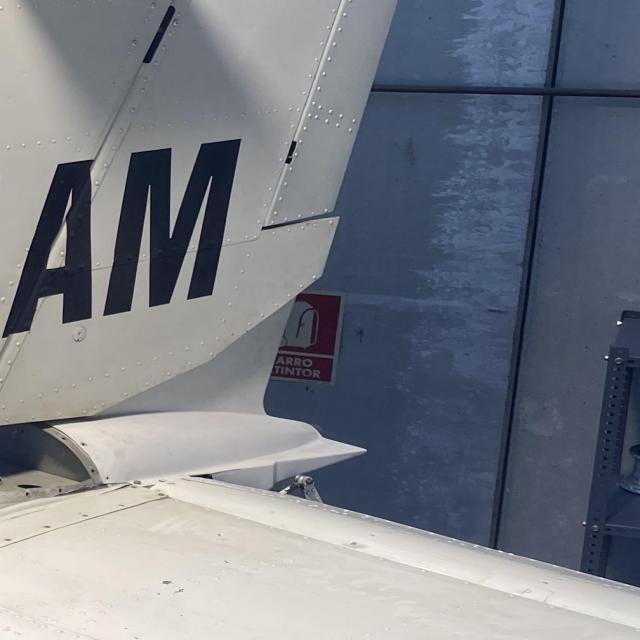Paint-off: (203, 468, 241, 477), (158, 575, 176, 593), (171, 588, 184, 596), (152, 592, 163, 596)
